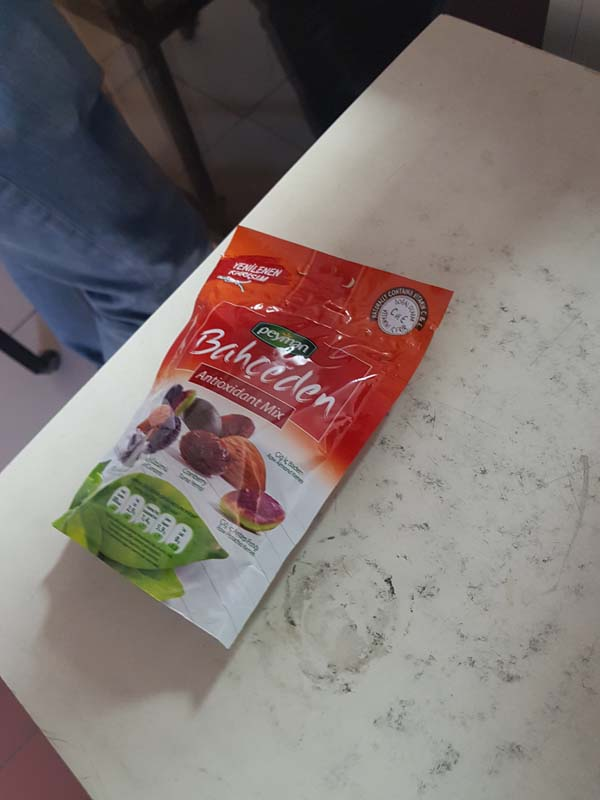bahcedenantioxidan: (60, 222, 455, 652)
